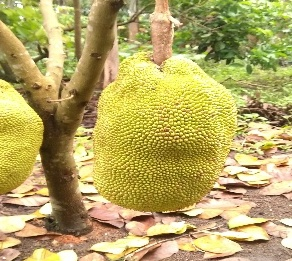Mit: (93, 52, 239, 213)
